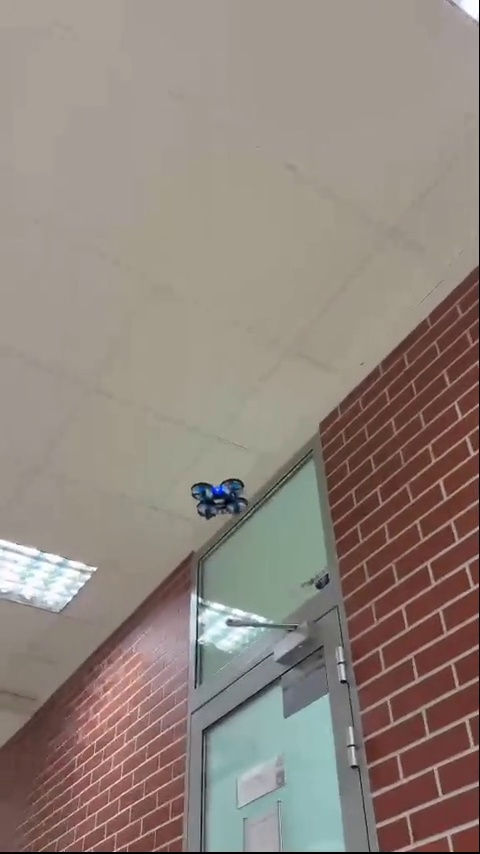drone: (189, 479, 251, 521)
